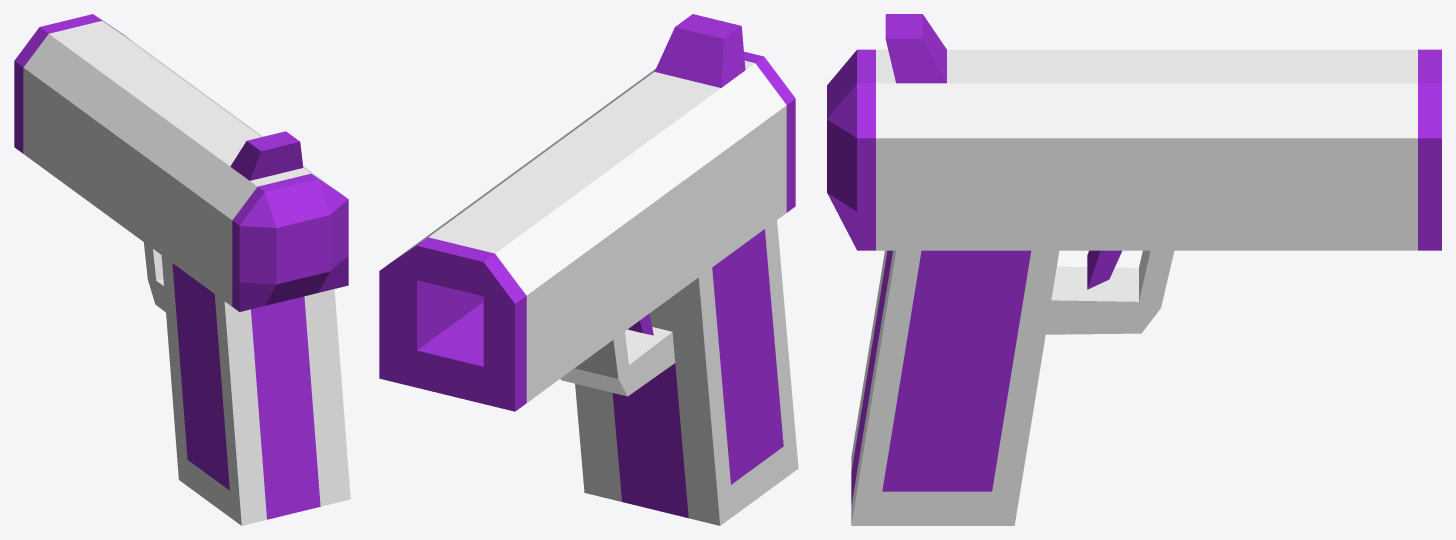
The model's file is gun2.fbx.
The picture shows the model from 3 angles, left to right: view 1: azimuth 30°, elevation 25°; view 2: azimuth 150°, elevation 25°; view 3: azimuth 270°, elevation 25°; orthographic projection. The views are drawn at different scales.
Parts seen in each view (by area): view 1: Cube; view 2: Cube; view 3: Cube.
Part boxes in pixels (x1,y1,x2,y2): Cube: [14, 14, 350, 525]; Cube: [379, 14, 798, 525]; Cube: [827, 14, 1441, 525].
Size of the model in its own units: 200 by 626 by 753.
